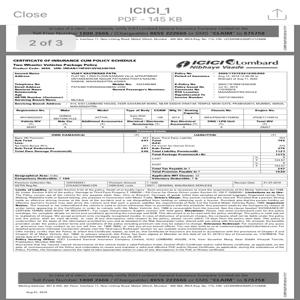image: (177, 58, 280, 68)
table: (13, 132, 289, 188), (14, 109, 289, 130), (14, 100, 287, 108)
text: (15, 189, 286, 252), (13, 68, 172, 101), (173, 71, 281, 100), (11, 55, 141, 69)
